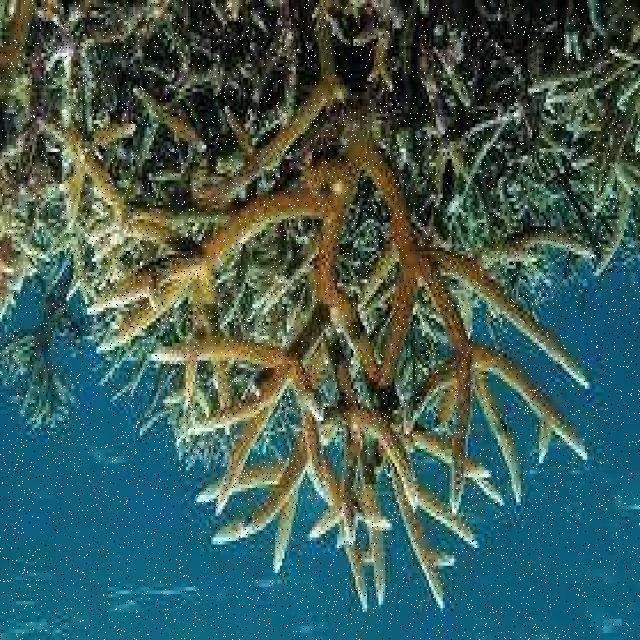Healthy: (61, 72, 597, 621)
